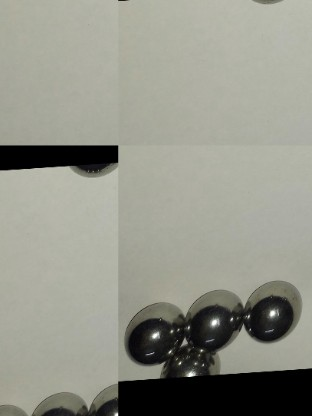ironball: (121, 298, 186, 366), (177, 283, 240, 349), (244, 276, 303, 341), (161, 344, 227, 376), (29, 383, 86, 414), (88, 376, 121, 414)
